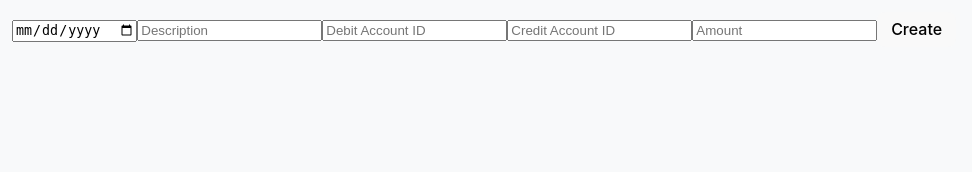
Test: JournalEntryForm Component - REQ-201.1 › API Integration › handles network errors specifically
This screenshot has width=972, height=172.
In the date field named "date": (75, 31) x1=12 y1=20 x2=137 y2=42, type "2025-10-01"
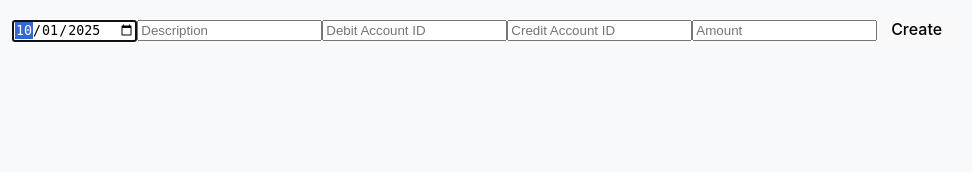
In the field labelled "Description": (230, 31) x1=137 y1=20 x2=322 y2=41, type "Test entry"
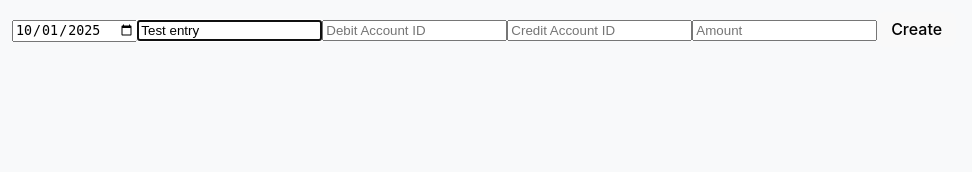
In the field labelled "Debit Account ID": (415, 31) x1=322 y1=20 x2=507 y2=41, type "1001"
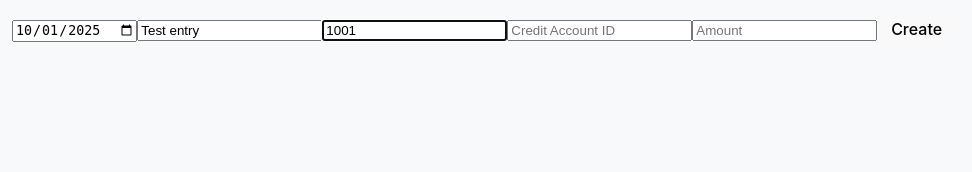
In the field labelled "Credit Account ID": (600, 31) x1=507 y1=20 x2=692 y2=41, type "4001"
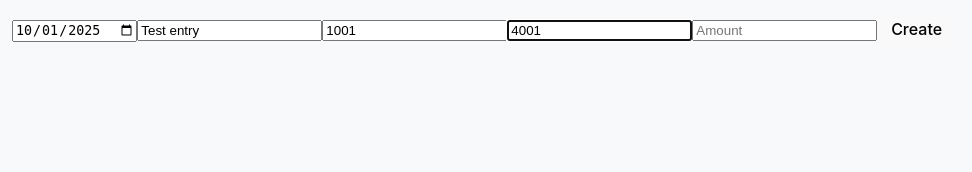
In the number field labelled "Amount": (785, 31) x1=692 y1=20 x2=877 y2=41, type "1000"
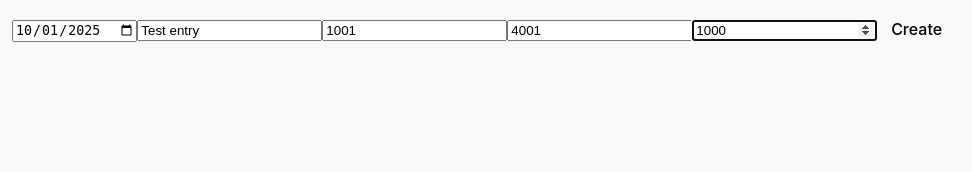
Click the button "Create": click(917, 29) x1=877 y1=12 x2=956 y2=47
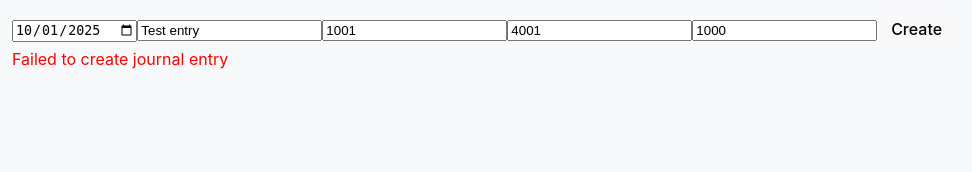
Now the text "Failed to create journal entry" is shown, box x1=12 y1=49 x2=228 y2=69
